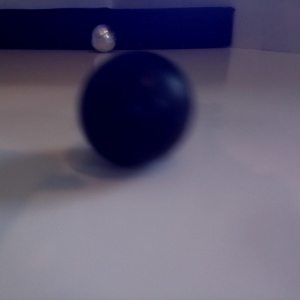zone: (1, 7, 235, 51)
